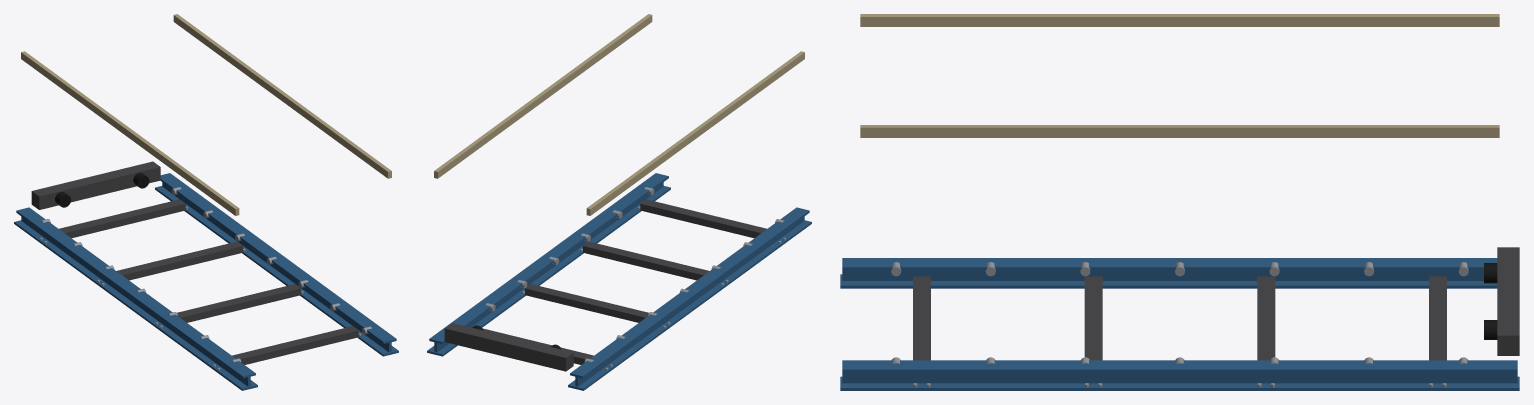
File: c20_rail.obj
The picture shows the model from 3 angles, left to right: view 1: azimuth 30°, elevation 25°; view 2: azimuth 150°, elevation 25°; view 3: azimuth 270°, elevation 25°; orthographic projection. The views are drawn at different scales.
Visible parts, largest first — view 1: c20_rail; view 2: c20_rail; view 3: c20_rail.
Part boxes in pixels (box(x1,y1,x2,y2)): c20_rail: box(14, 14, 398, 390); c20_rail: box(427, 14, 811, 390); c20_rail: box(840, 14, 1519, 390).
Size of the model in its own units: 2.4 by 2.59 by 6.06.
